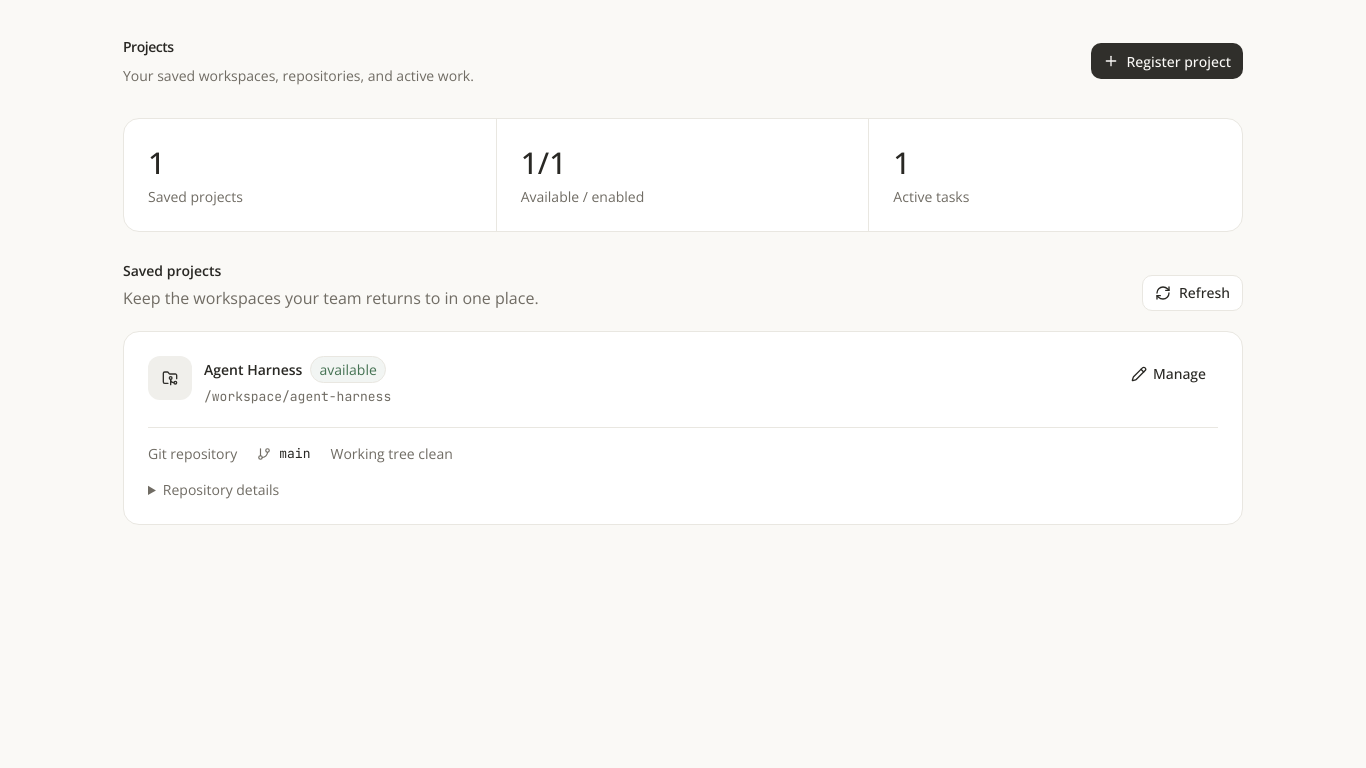
Test case: ProjectsView › lets an administrator rename and disable a saved project
The width and height of the screenshot is (1366, 768).
Click the button with aria-label "Manage Agent Harness": [1168, 374] box [1119, 356, 1218, 392]
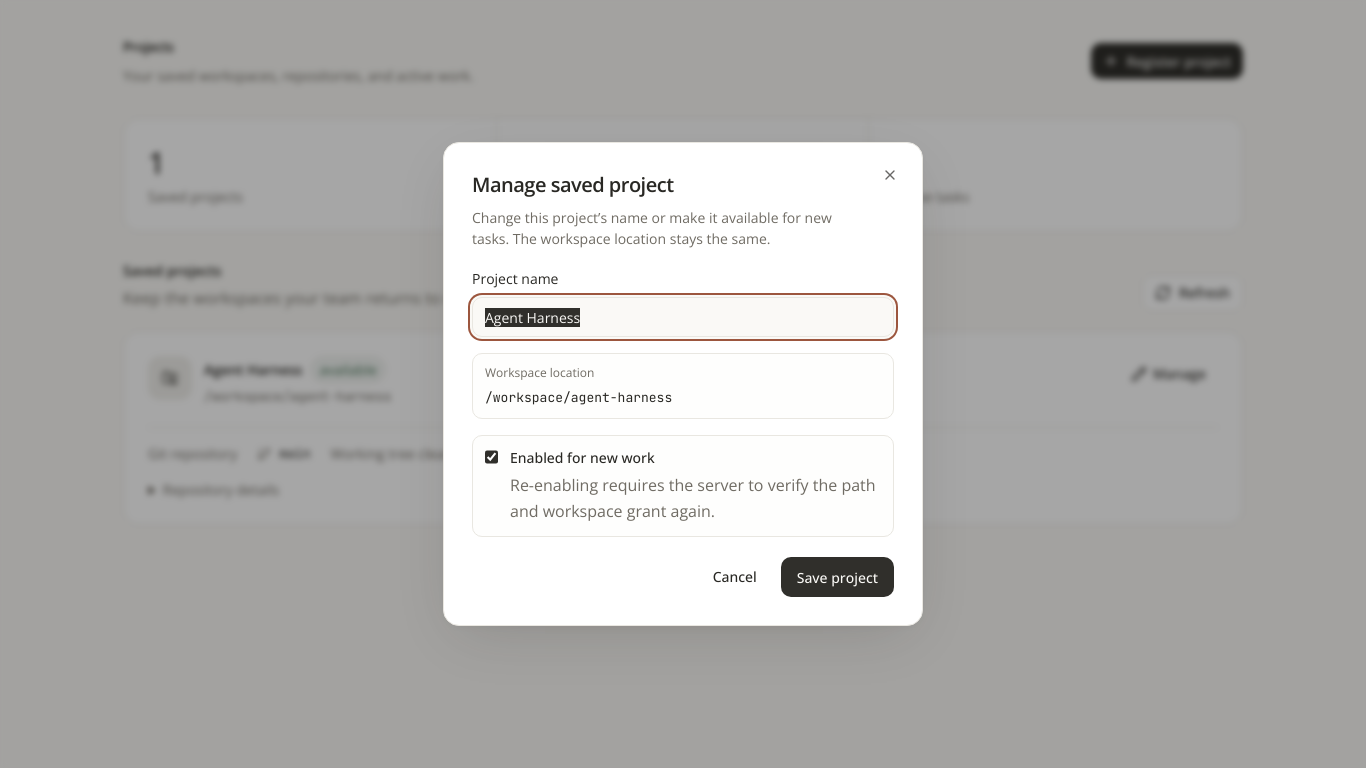
Replace the text in the field labelled "Project name" with "Renamed Harness": [683, 317] box [472, 297, 894, 337]
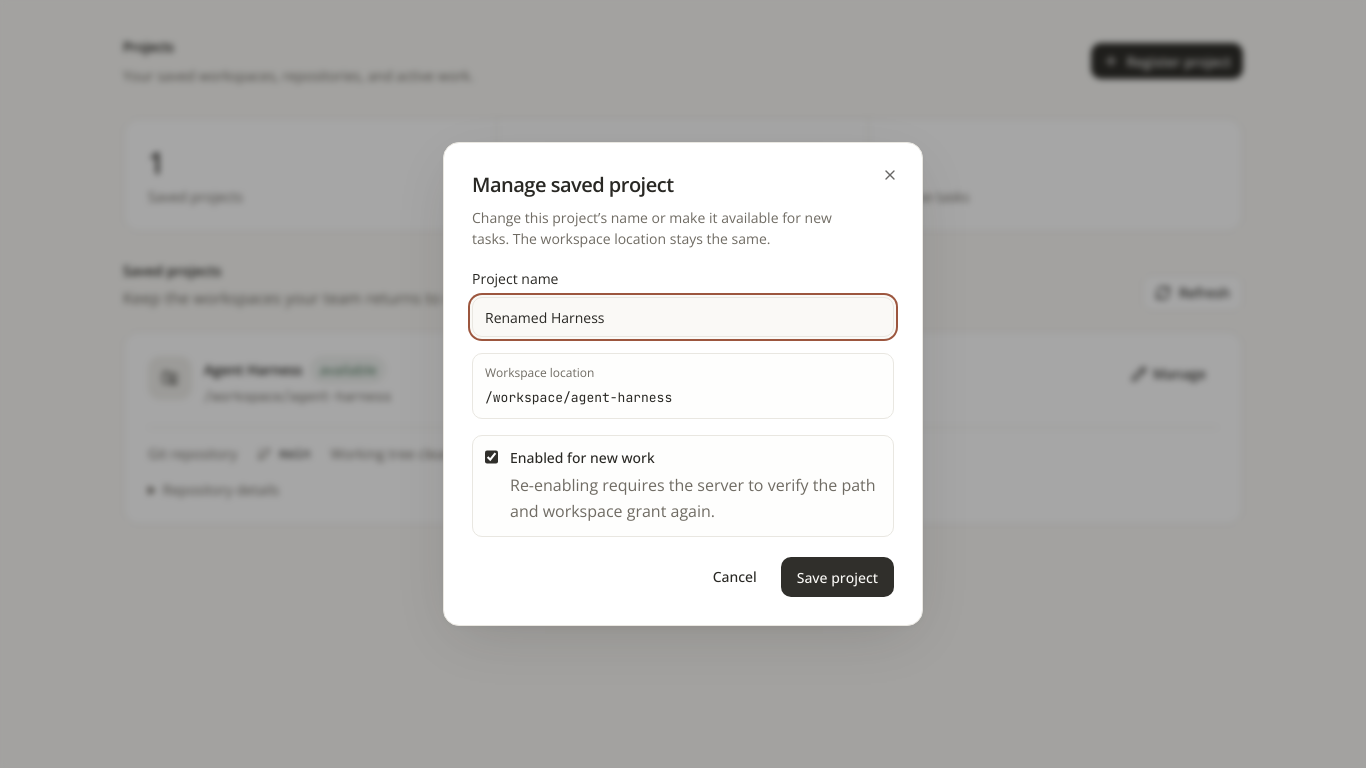
Click the checkbox labelled "Enabled for new work": [492, 457] box [485, 450, 498, 464]
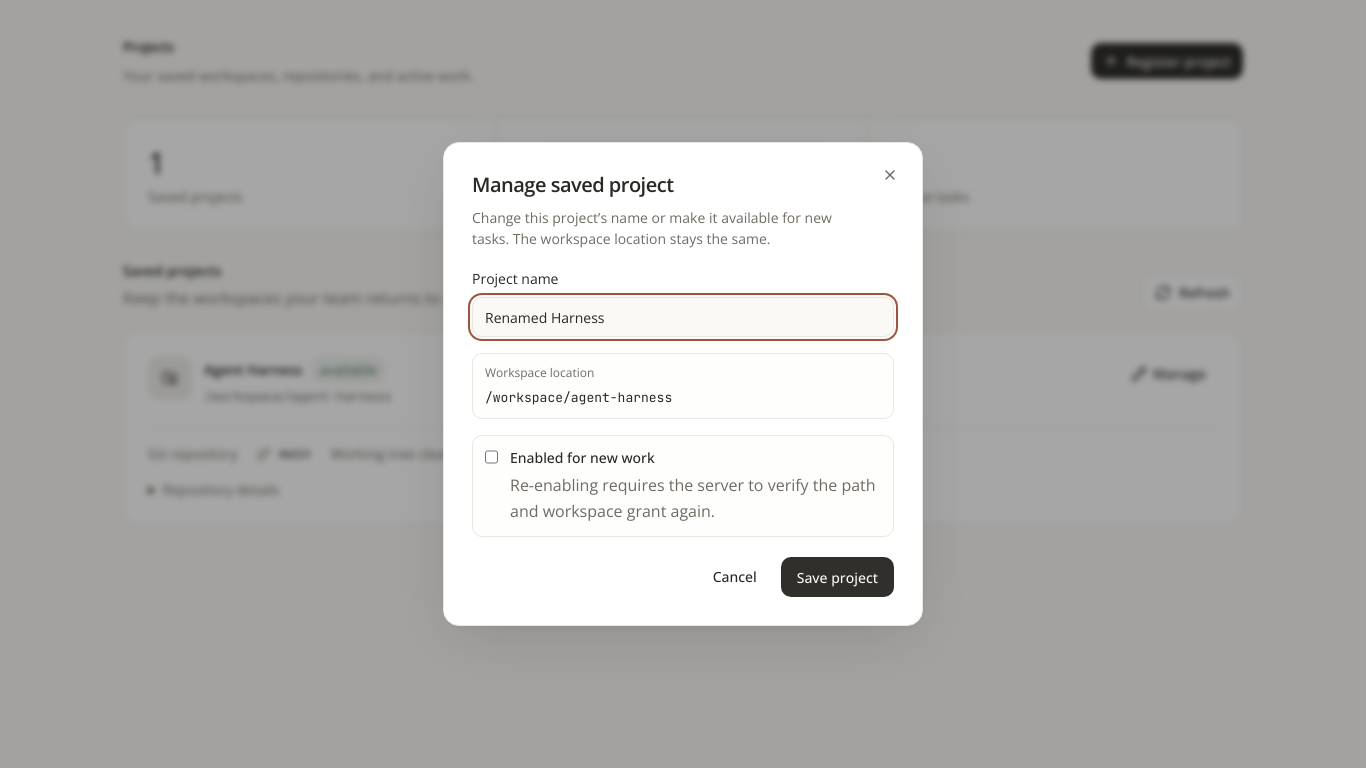
Click the button "Save project": [837, 577] box [781, 557, 894, 597]
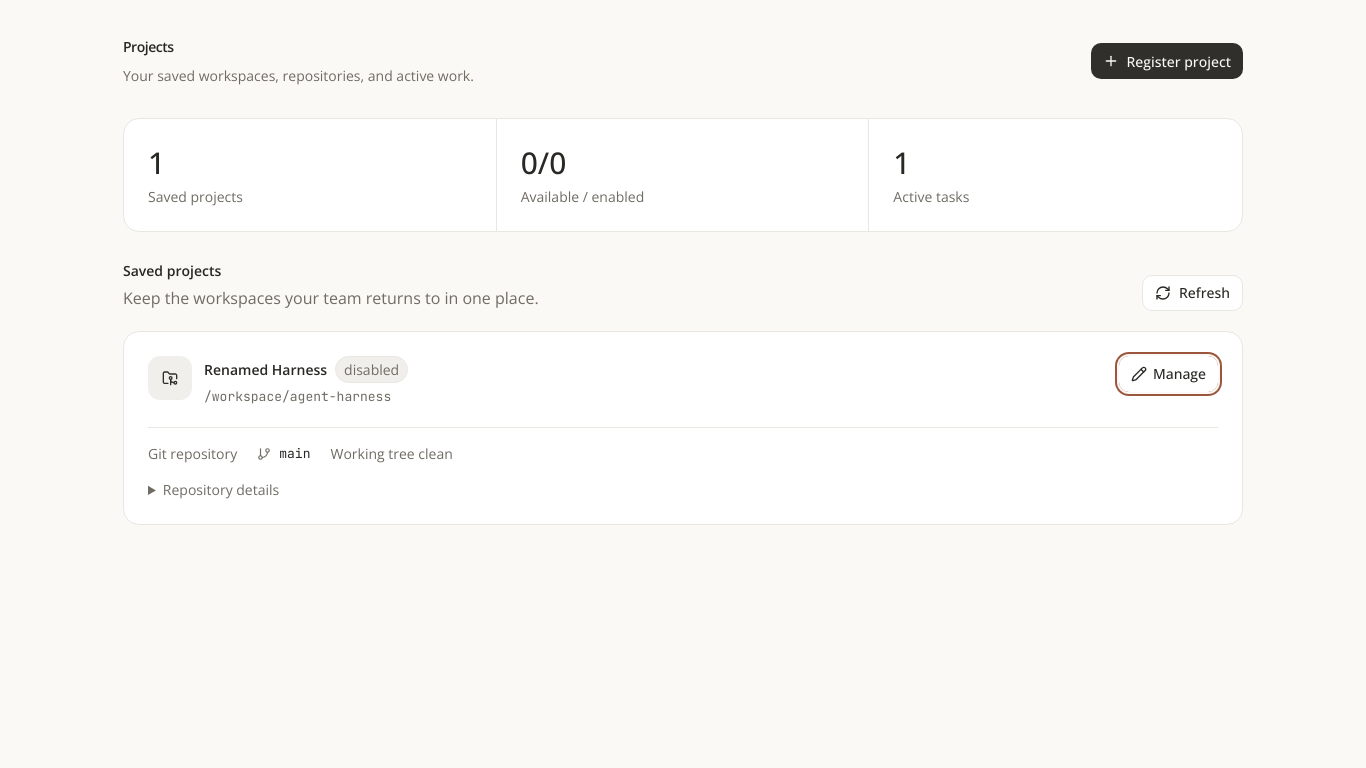
expect the heading "Renamed Harness" is shown: met, box [204, 359, 327, 380]
expect the text "disabled" is shown: met, box [335, 356, 408, 383]
